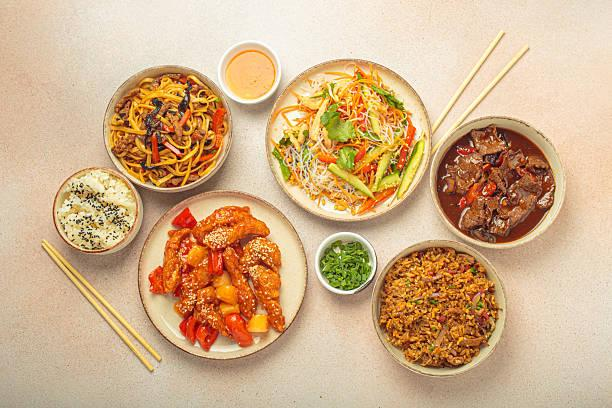Braised Crucian Carp: (136, 188, 304, 360), (265, 58, 429, 222), (370, 239, 506, 379), (429, 115, 564, 248), (103, 65, 232, 193)
